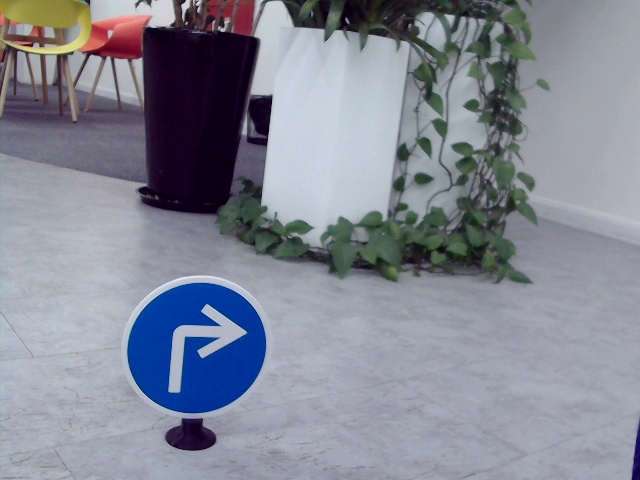turn_right: (162, 300, 245, 395)
